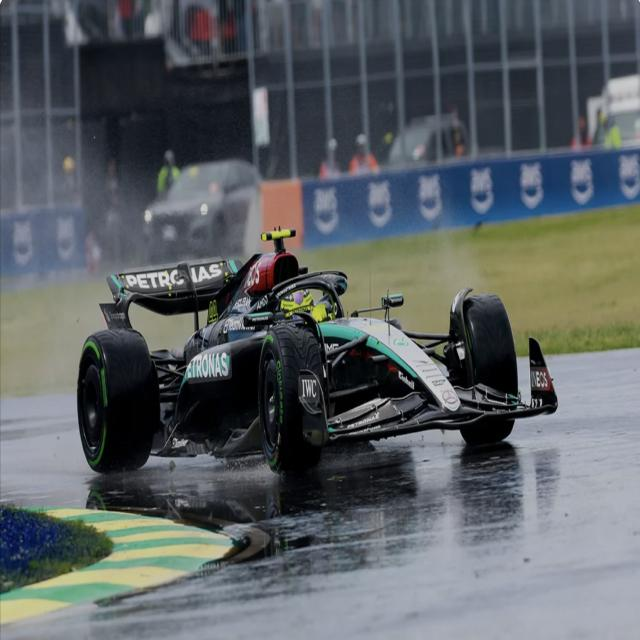Mercedes: (77, 225, 560, 501)
